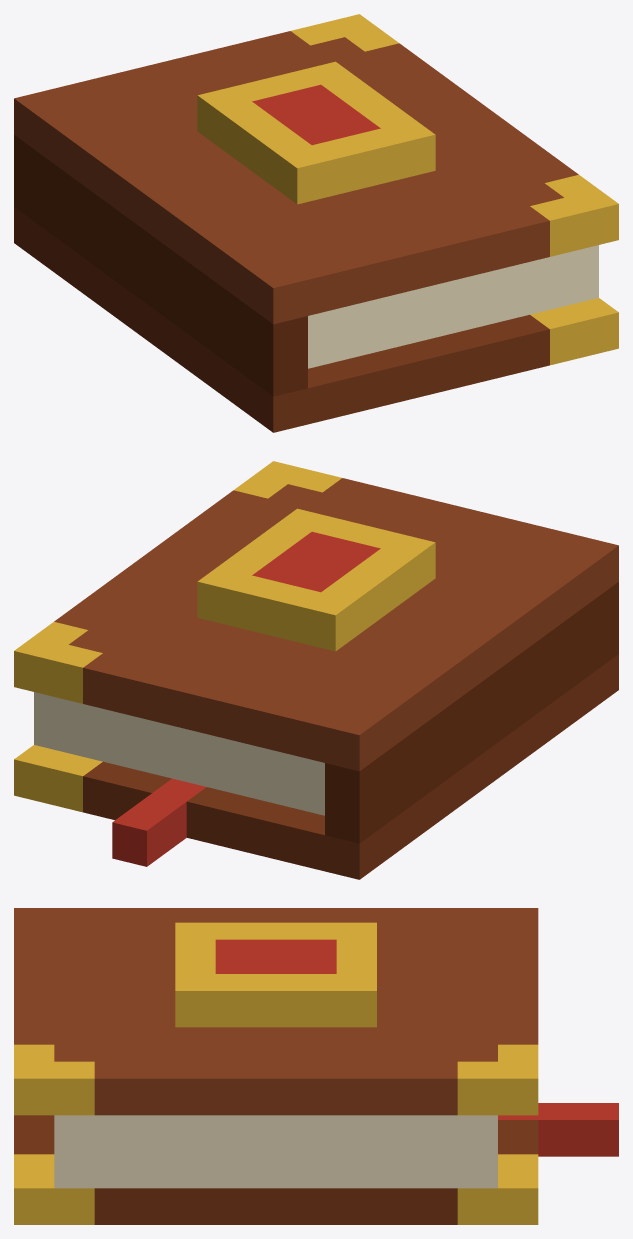
File: Shop_Book.fbx
The picture shows the model from 3 angles, top to bottom: view 1: azimuth 30°, elevation 25°; view 2: azimuth 150°, elevation 25°; view 3: azimuth 270°, elevation 25°; orthographic projection.
Parts seen in each view (by area): view 1: Icon_Book; view 2: Icon_Book; view 3: Icon_Book.
Boxes of the visible parts, box(x1,y1,x2,y2) form: Icon_Book: box(14, 14, 618, 432); Icon_Book: box(14, 461, 618, 879); Icon_Book: box(14, 908, 618, 1224).
Bounding box in the file's own units: 10 × 5 × 15.
